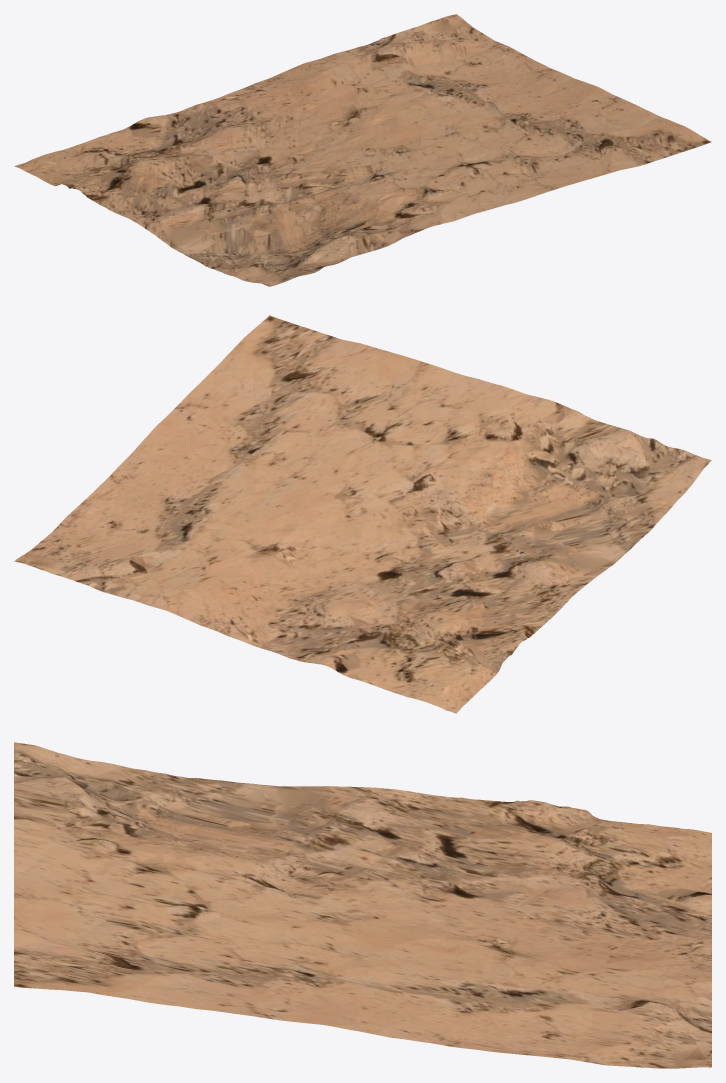
3 views of the same model, one above another, from view 1: azimuth 30°, elevation 25°; view 2: azimuth 150°, elevation 25°; view 3: azimuth 270°, elevation 25° (orthographic). The views are drawn at different scales.
Bounding box in the file's own units: 8.36 × 1.87 × 8.36.
2 materials, 2 textured.
